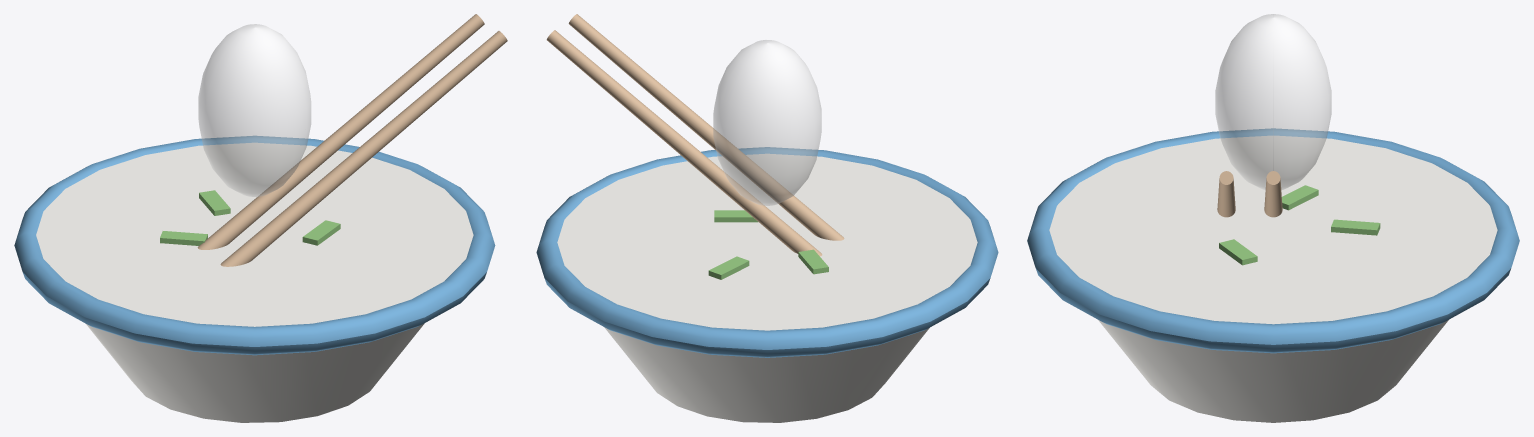
Rendered from chao_hanh.glb.
3 views of the same model, side by side, from view 1: azimuth 30°, elevation 25°; view 2: azimuth 150°, elevation 25°; view 3: azimuth 270°, elevation 25° (orthographic). The views are drawn at different scales.
Visible parts, largest first — view 1: Cyl1, Tor1, Sph1, Cyl4, Cyl3, Box2, Box1, Box3; view 2: Cyl1, Tor1, Sph1, Cyl4, Cyl3, Box3, Box1, Box2; view 3: Cyl1, Tor1, Sph1, Cyl3, Cyl4, Box3, Box1, Box2.
Part boxes in pixels (left/top/right/bottom): Cyl1: left=36, top=142, right=473, bottom=422; Tor1: left=14, top=135, right=495, bottom=355; Sph1: left=198, top=24, right=311, bottom=196; Cyl4: left=220, top=31, right=507, bottom=266; Cyl3: left=197, top=14, right=484, bottom=249; Box2: left=160, top=231, right=207, bottom=245; Box1: left=302, top=220, right=340, bottom=245; Box3: left=199, top=190, right=230, bottom=215; Cyl1: left=557, top=153, right=977, bottom=422; Tor1: left=536, top=147, right=998, bottom=357; Sph1: left=713, top=40, right=821, bottom=205; Cyl4: left=568, top=14, right=844, bottom=240; Cyl3: left=546, top=30, right=822, bottom=256; Box3: left=708, top=256, right=749, bottom=279; Box1: left=714, top=210, right=757, bottom=222; Box2: left=798, top=249, right=828, bottom=274; Cyl1: left=1049, top=135, right=1497, bottom=422; Tor1: left=1027, top=128, right=1519, bottom=353; Sph1: left=1215, top=14, right=1331, bottom=189; Cyl3: left=1264, top=171, right=1282, bottom=217; Cyl4: left=1217, top=171, right=1235, bottom=217; Box3: left=1331, top=219, right=1380, bottom=235; Box1: left=1219, top=239, right=1257, bottom=265; Box2: left=1282, top=185, right=1318, bottom=210.
Bounding box in the file's own units: 0.4402 × 0.33 × 0.42.
